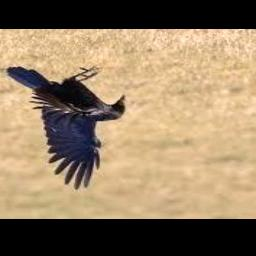Crow: (4, 65, 126, 190)
